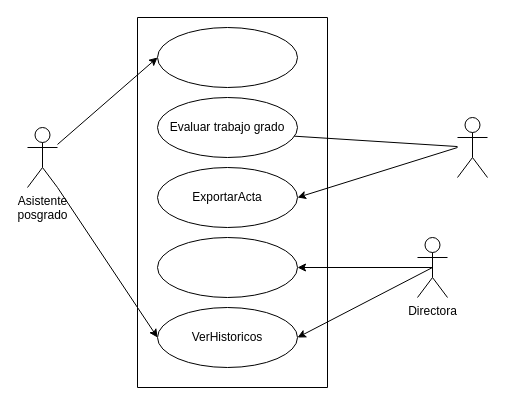
This 528x405 diagram has some shape labels left out. Each missing label, with the centre of its shape:
Crear Acta: point (227, 57)
JuradoEscribe: point (472, 147)
ModificarCriterios: point (227, 267)
